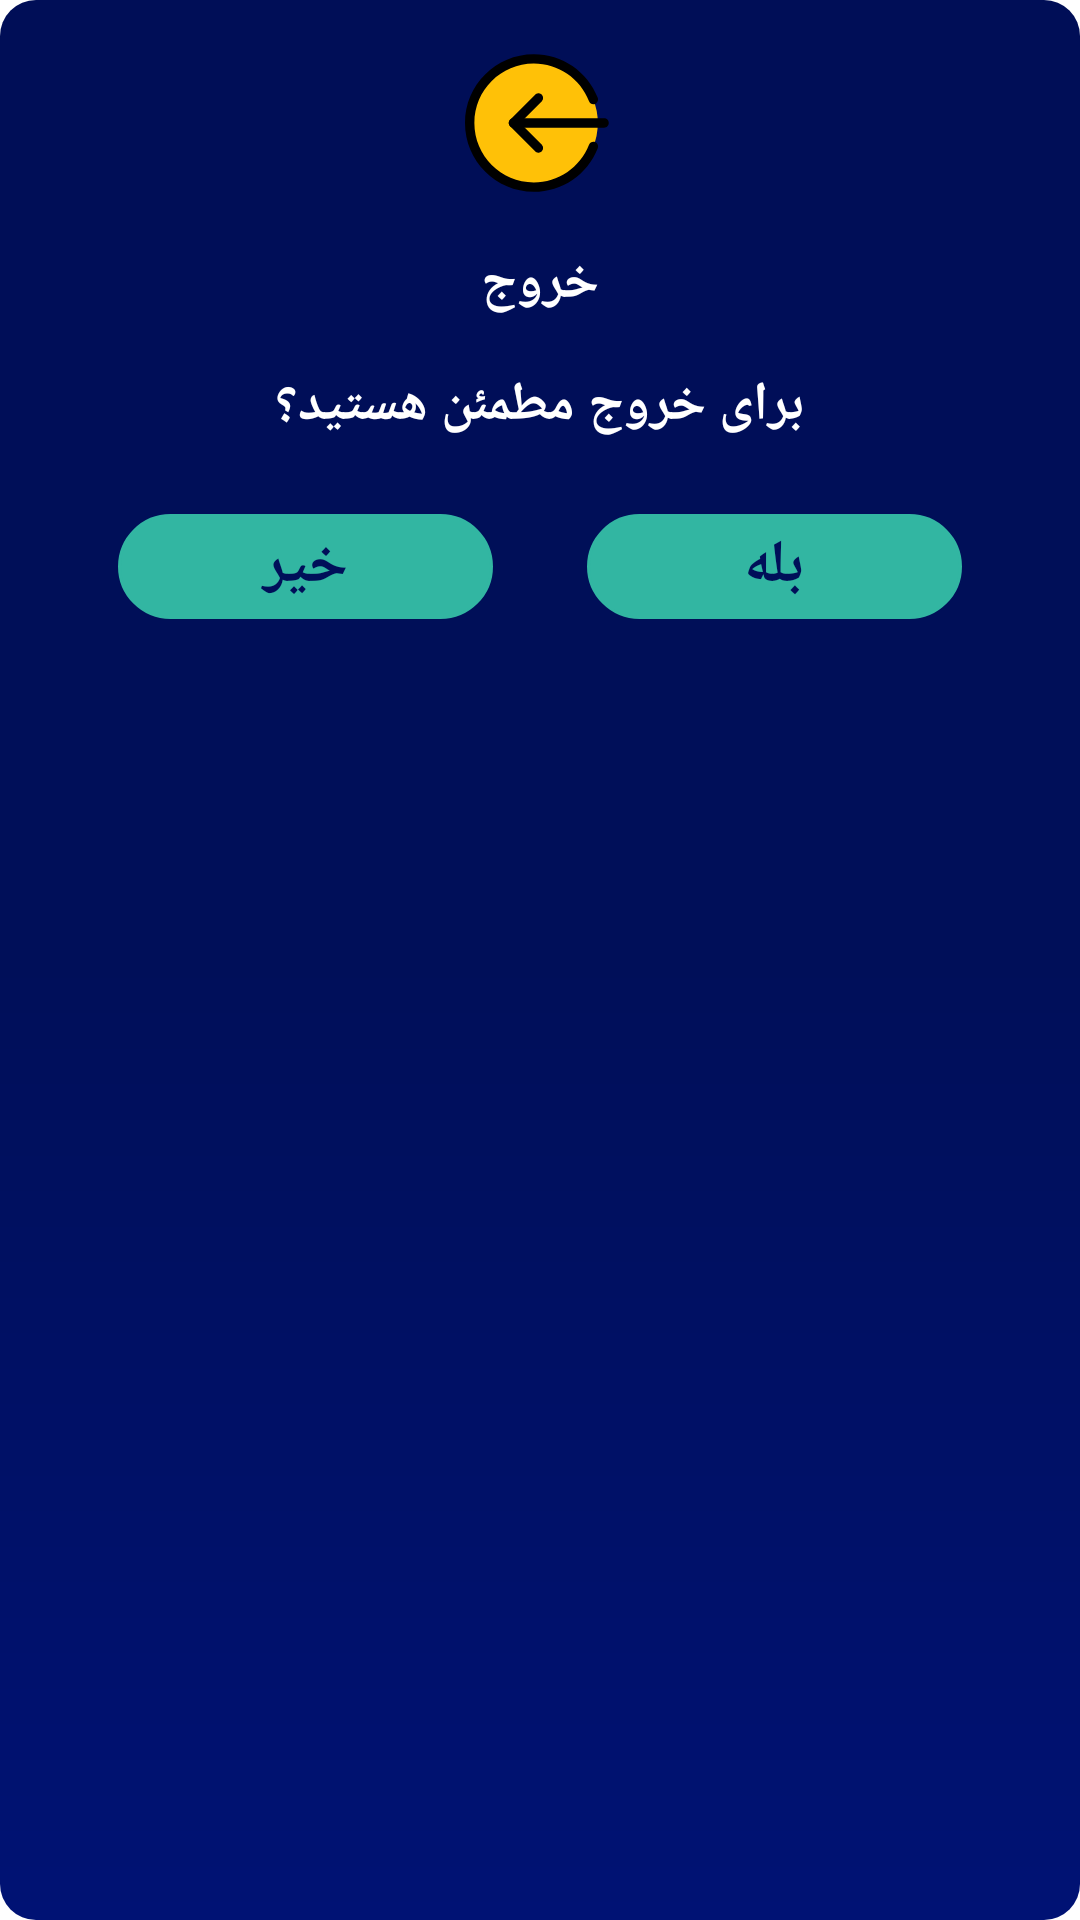

Icon click points for this 1080w x 1920h phone screenshot, format (x=x, y=y):
exit: (x=537, y=123)
